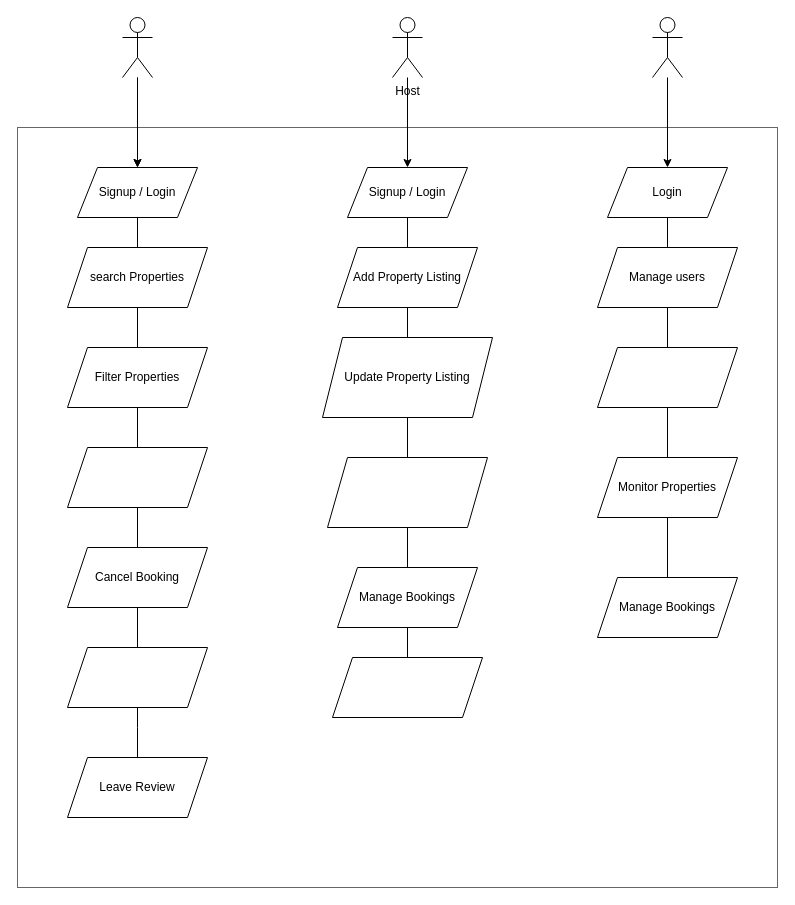
This 795x905 diagram has some shape labels left out. The box of each missing label's shape, as (x1, y1, x2, y2) in pixels:
Admin: (652, 16, 682, 78)
Book Properties: (66, 446, 208, 508)
Delete Property Listing: (326, 456, 488, 528)
Guest: (122, 16, 152, 78)
Make Payment: (66, 646, 208, 708)
Monitor Payment: (596, 346, 738, 408)
Respond to Reviews: (332, 656, 482, 718)
